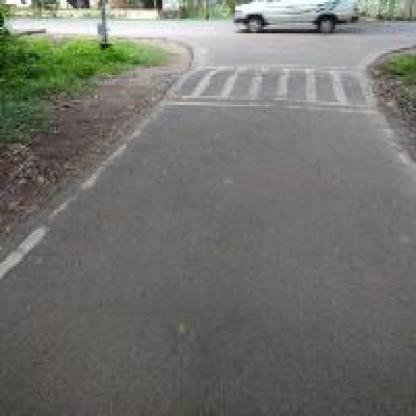Speed Bump: (154, 60, 385, 116)
